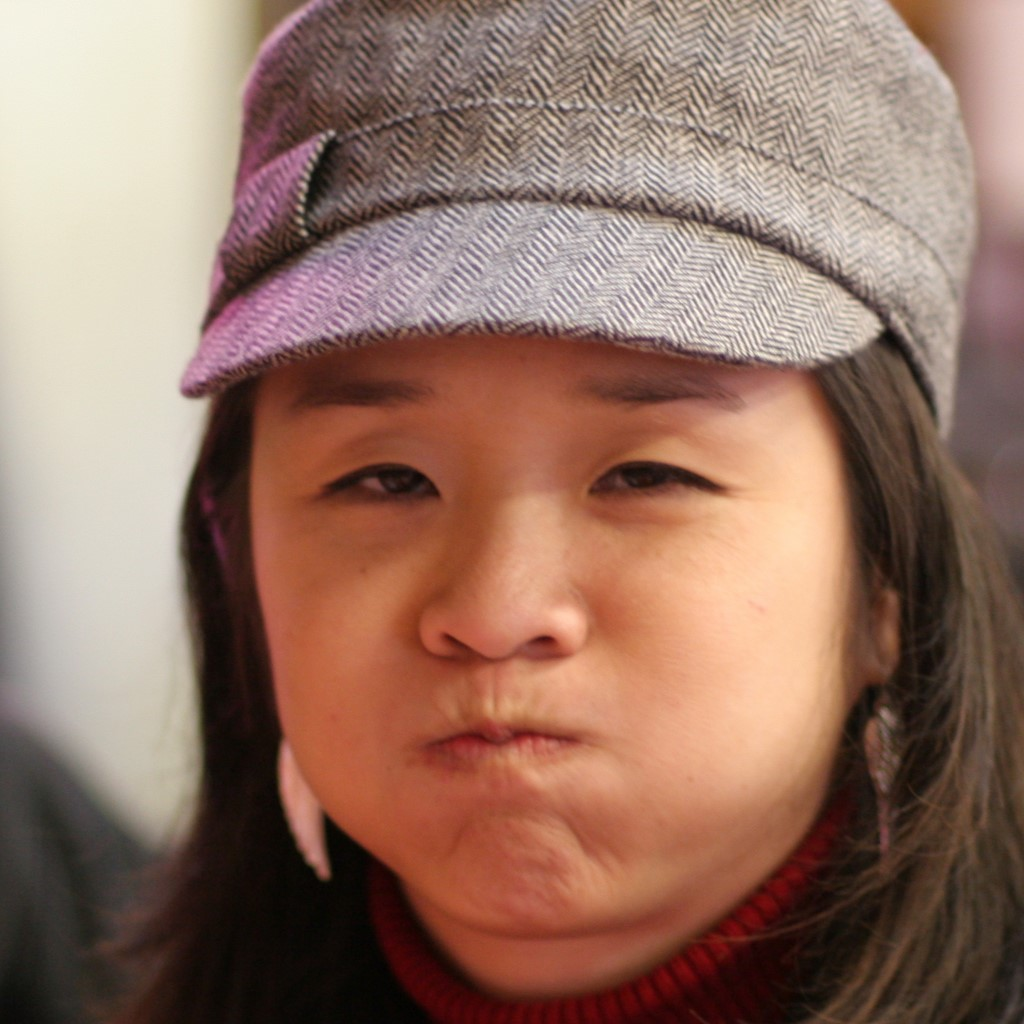sin_mascara: (236, 182, 893, 933)
